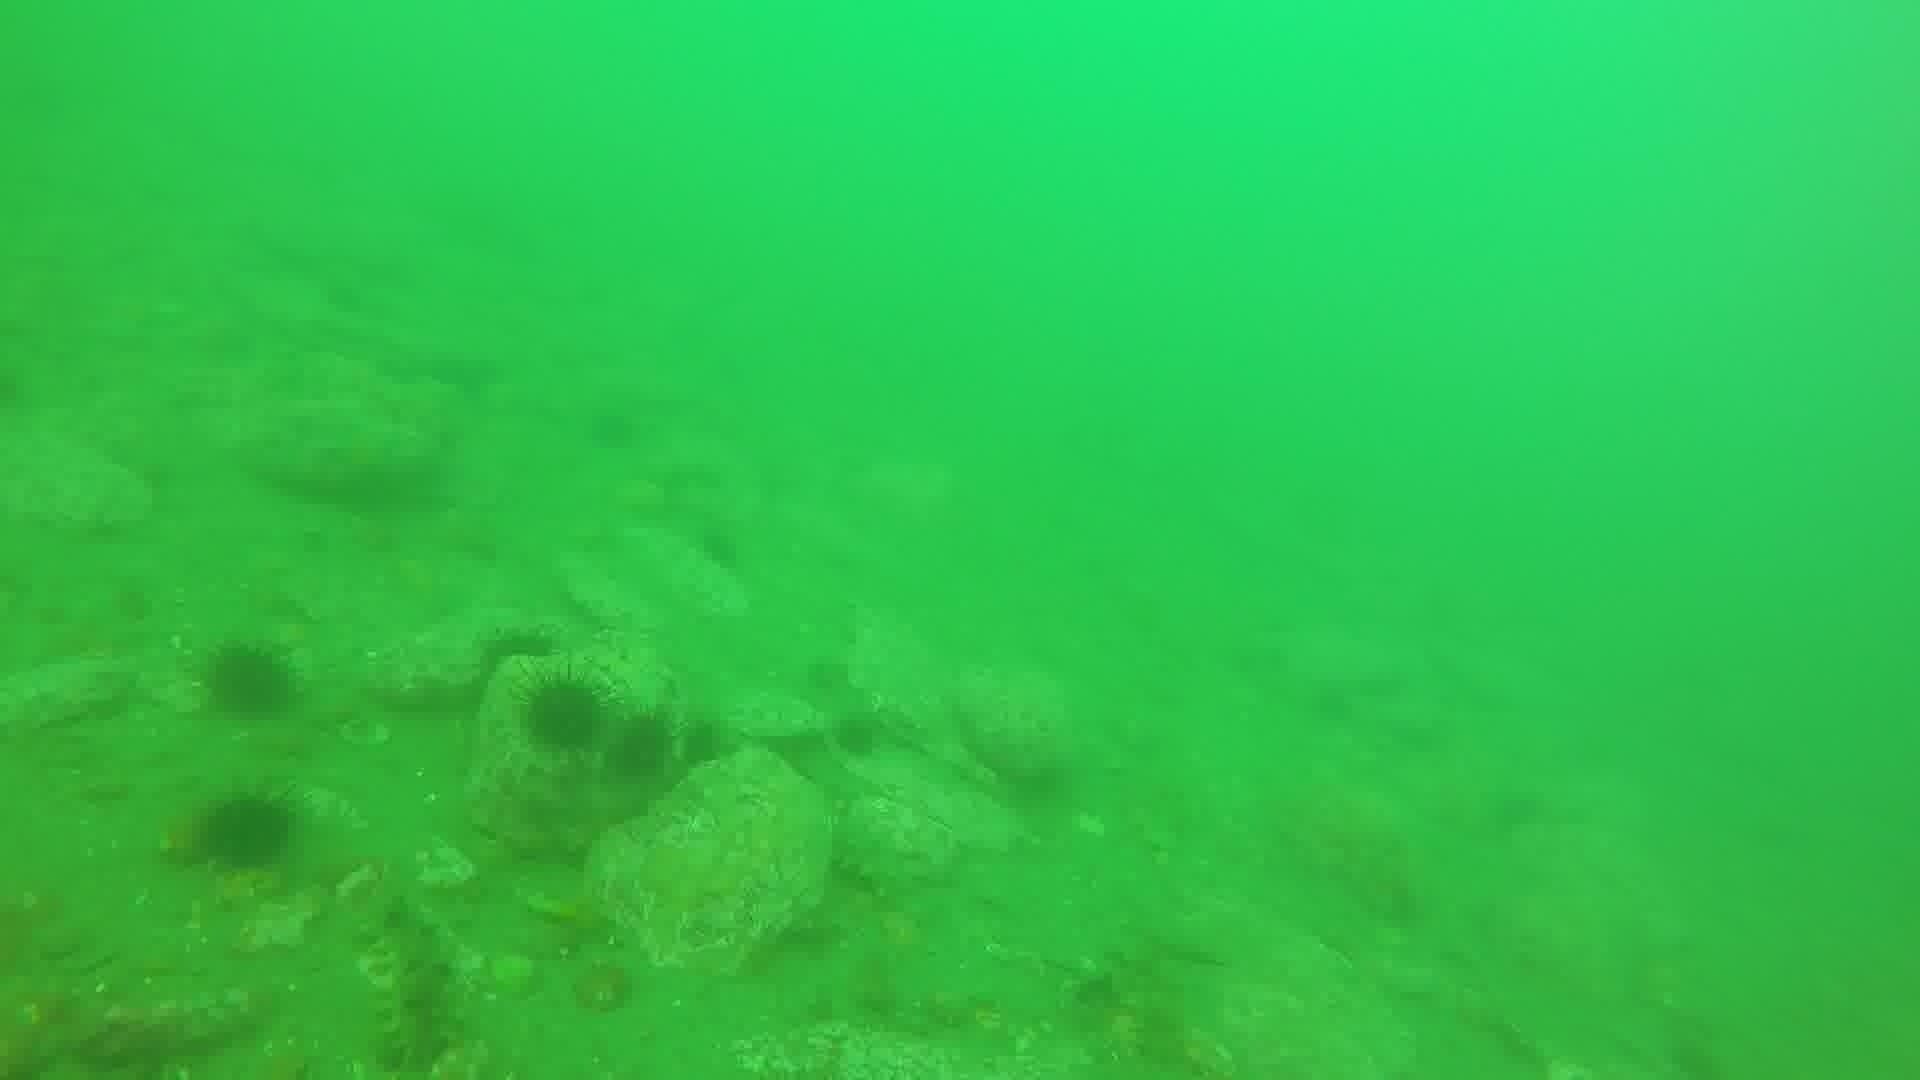echinus: (189, 789, 299, 878), (516, 669, 611, 758), (200, 638, 301, 723), (603, 708, 680, 787), (469, 620, 560, 683), (670, 712, 733, 774), (827, 708, 887, 764)
holothurian: (359, 889, 469, 1076)
